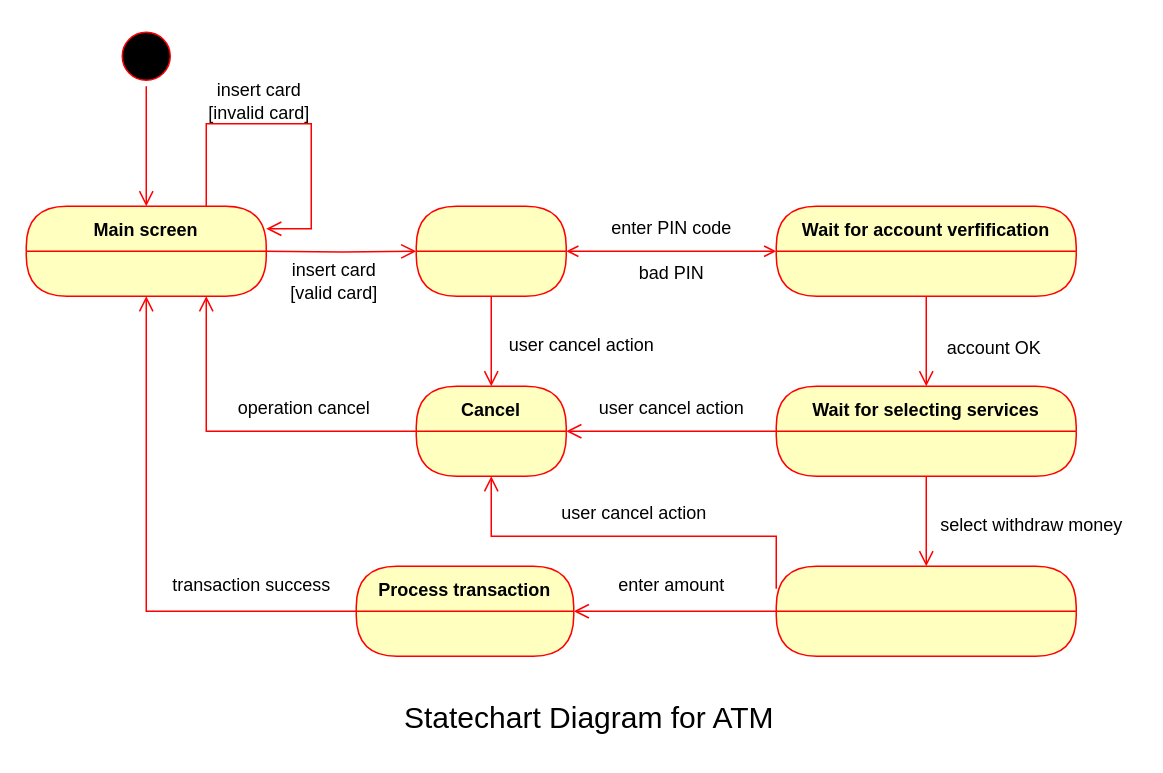
The diagram is 1163 pixels wide and 773 high, and some of its shapes have lost their labels. Here are the shapes that lost their labels. From the top down, the centre of each, then its label:
At (x=490, y=250): "Wait for PIN".
At (x=925, y=610): "Wait for entering amount".
